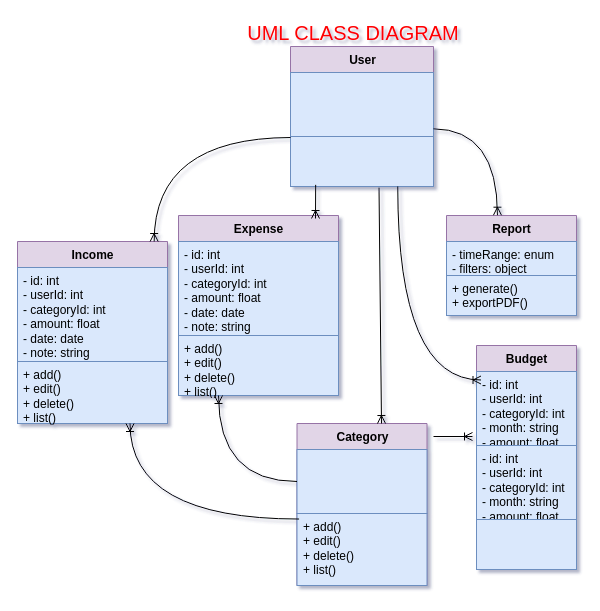
Some shapes in this 600 by 611 pixel diagram are drawn without their labels. Here are the shapes that lost their labels. From the top down, the centre of each, then its label:
the point at 362,104: - id: int - name: string - email: string - password: string
the point at 362,161: + register() + login() + logout()
the point at 361,481: - id: int - userId: int - name: string - type: enum
the point at 526,544: + set() + getProgress() + list()
